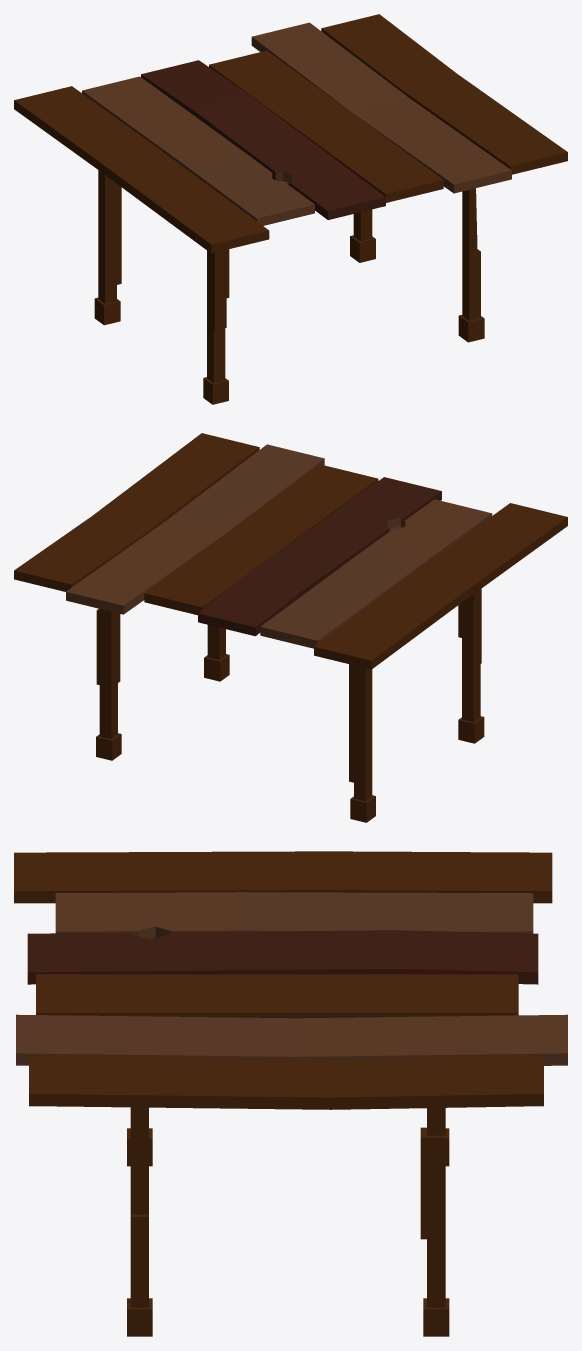
File: wooden_table.fbx
3 views of the same model, one above another, from view 1: azimuth 30°, elevation 25°; view 2: azimuth 150°, elevation 25°; view 3: azimuth 270°, elevation 25° (orthographic). The views are drawn at different scales.
Visible parts, largest first — view 1: wooden_table; view 2: wooden_table; view 3: wooden_table.
Part boxes in pixels (bbox=[...]): wooden_table: bbox=[14, 14, 567, 404]; wooden_table: bbox=[14, 433, 567, 822]; wooden_table: bbox=[14, 851, 567, 1336].
Size of the model in its own units: 143 by 76.52 by 138.
